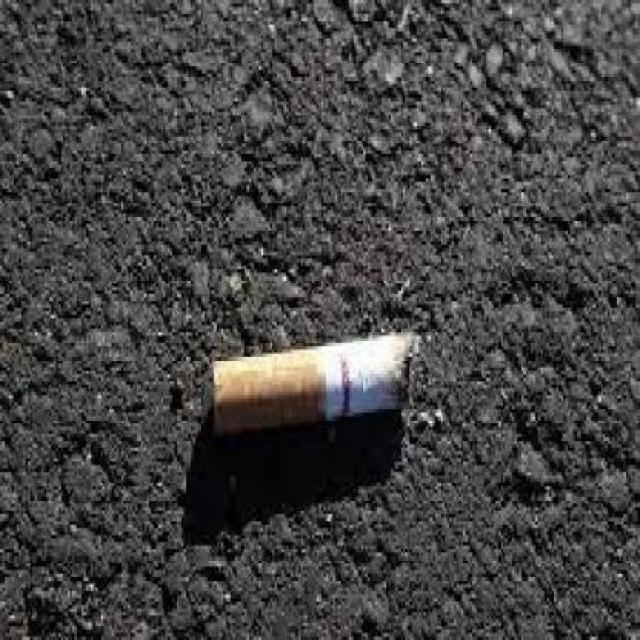cigarette: (211, 325, 424, 433)
